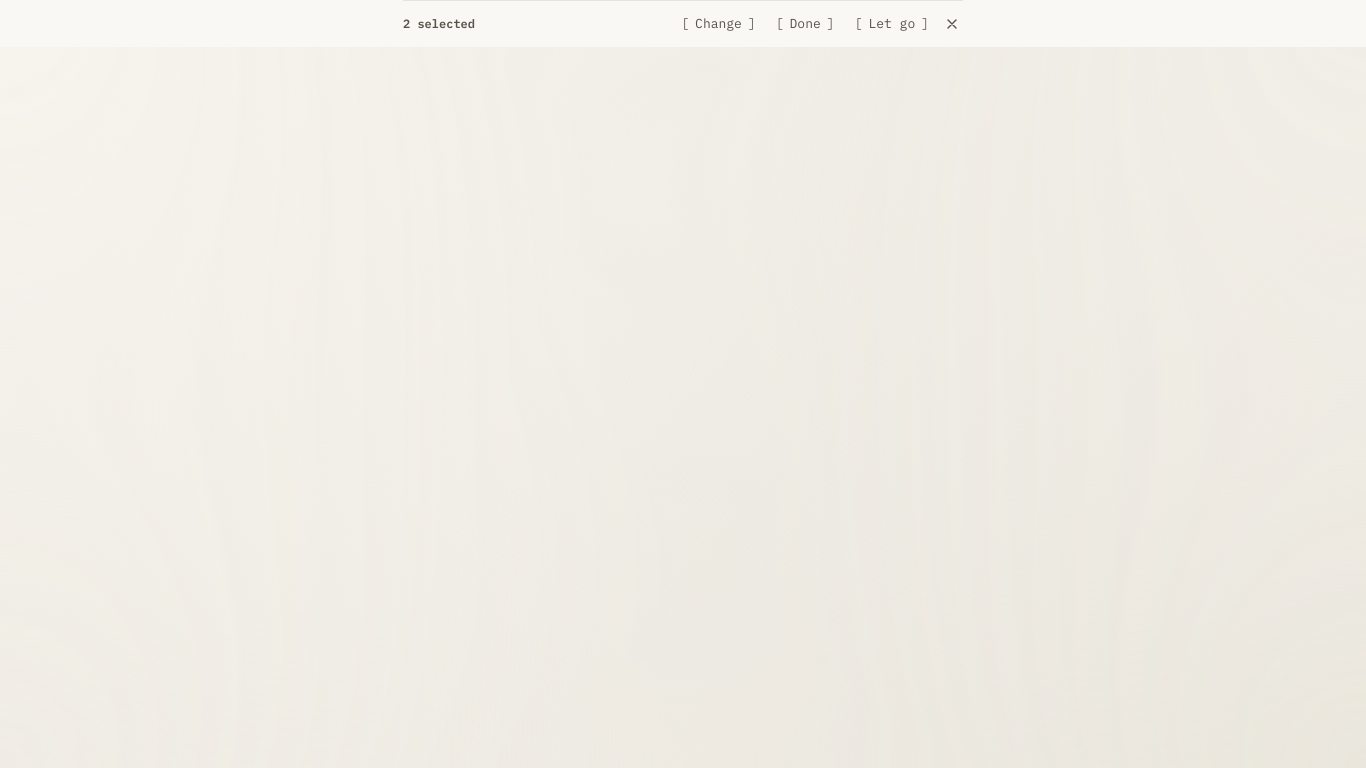
Test: SelectionBar › lets nothing go when the question is cancelled
The image size is (1366, 768).
Click the button "Let go": {"x": 892, "y": 24} [847, 9, 937, 39]
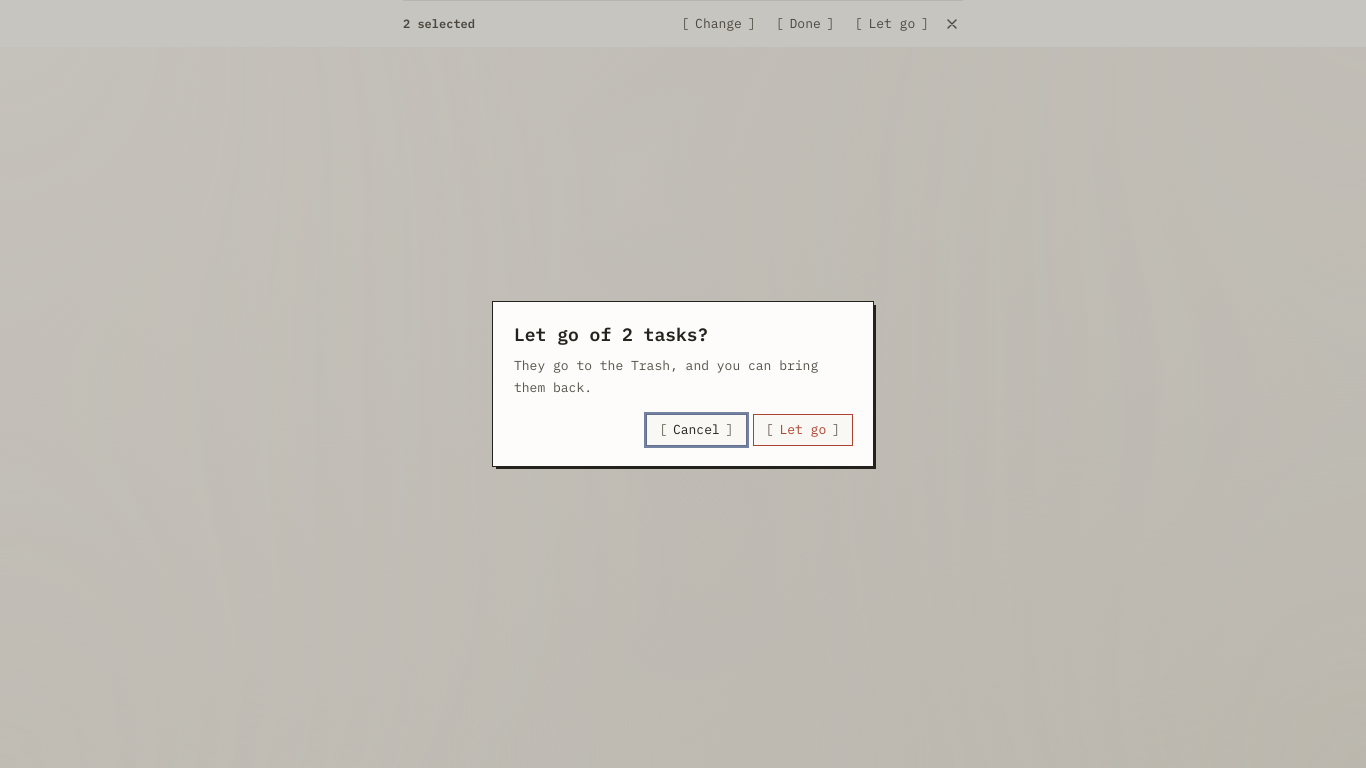
Click the button "Cancel": {"x": 696, "y": 430} [647, 415, 746, 445]
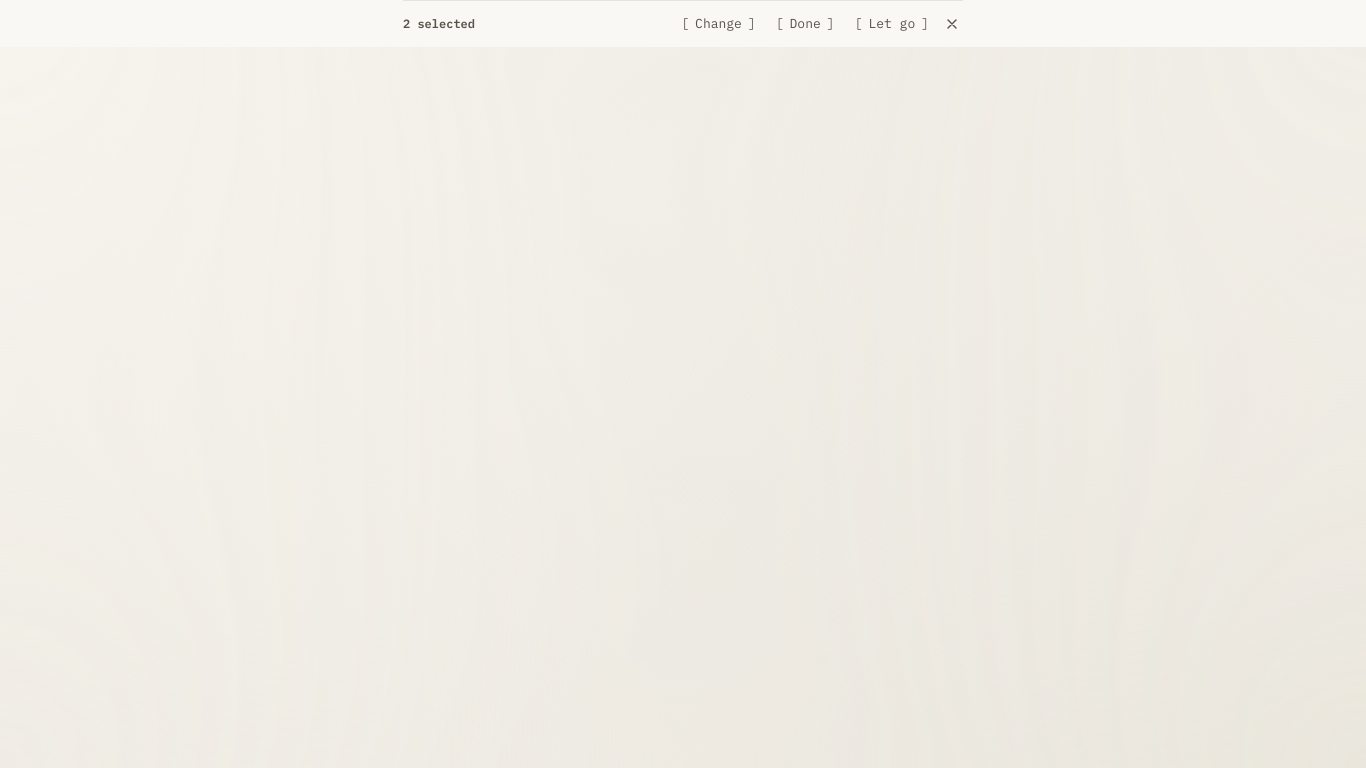
Now the dialog is gone
